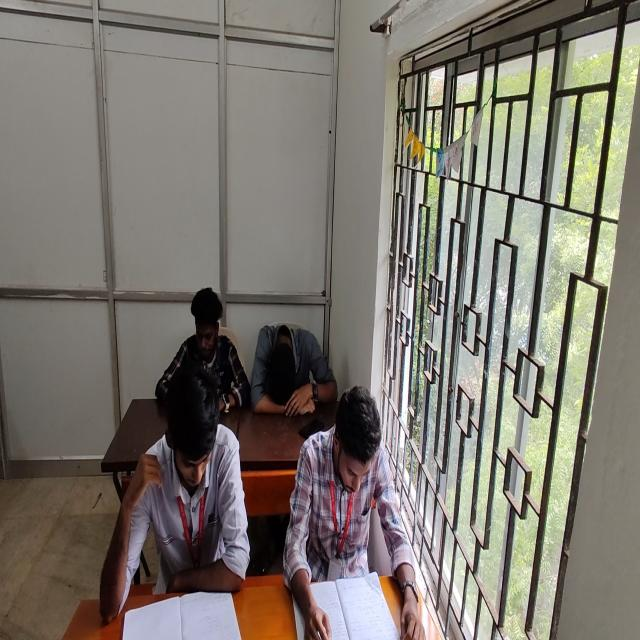reading: (100, 368, 250, 623), (291, 385, 415, 640)
using_mobile: (156, 284, 251, 414), (251, 322, 337, 416)
